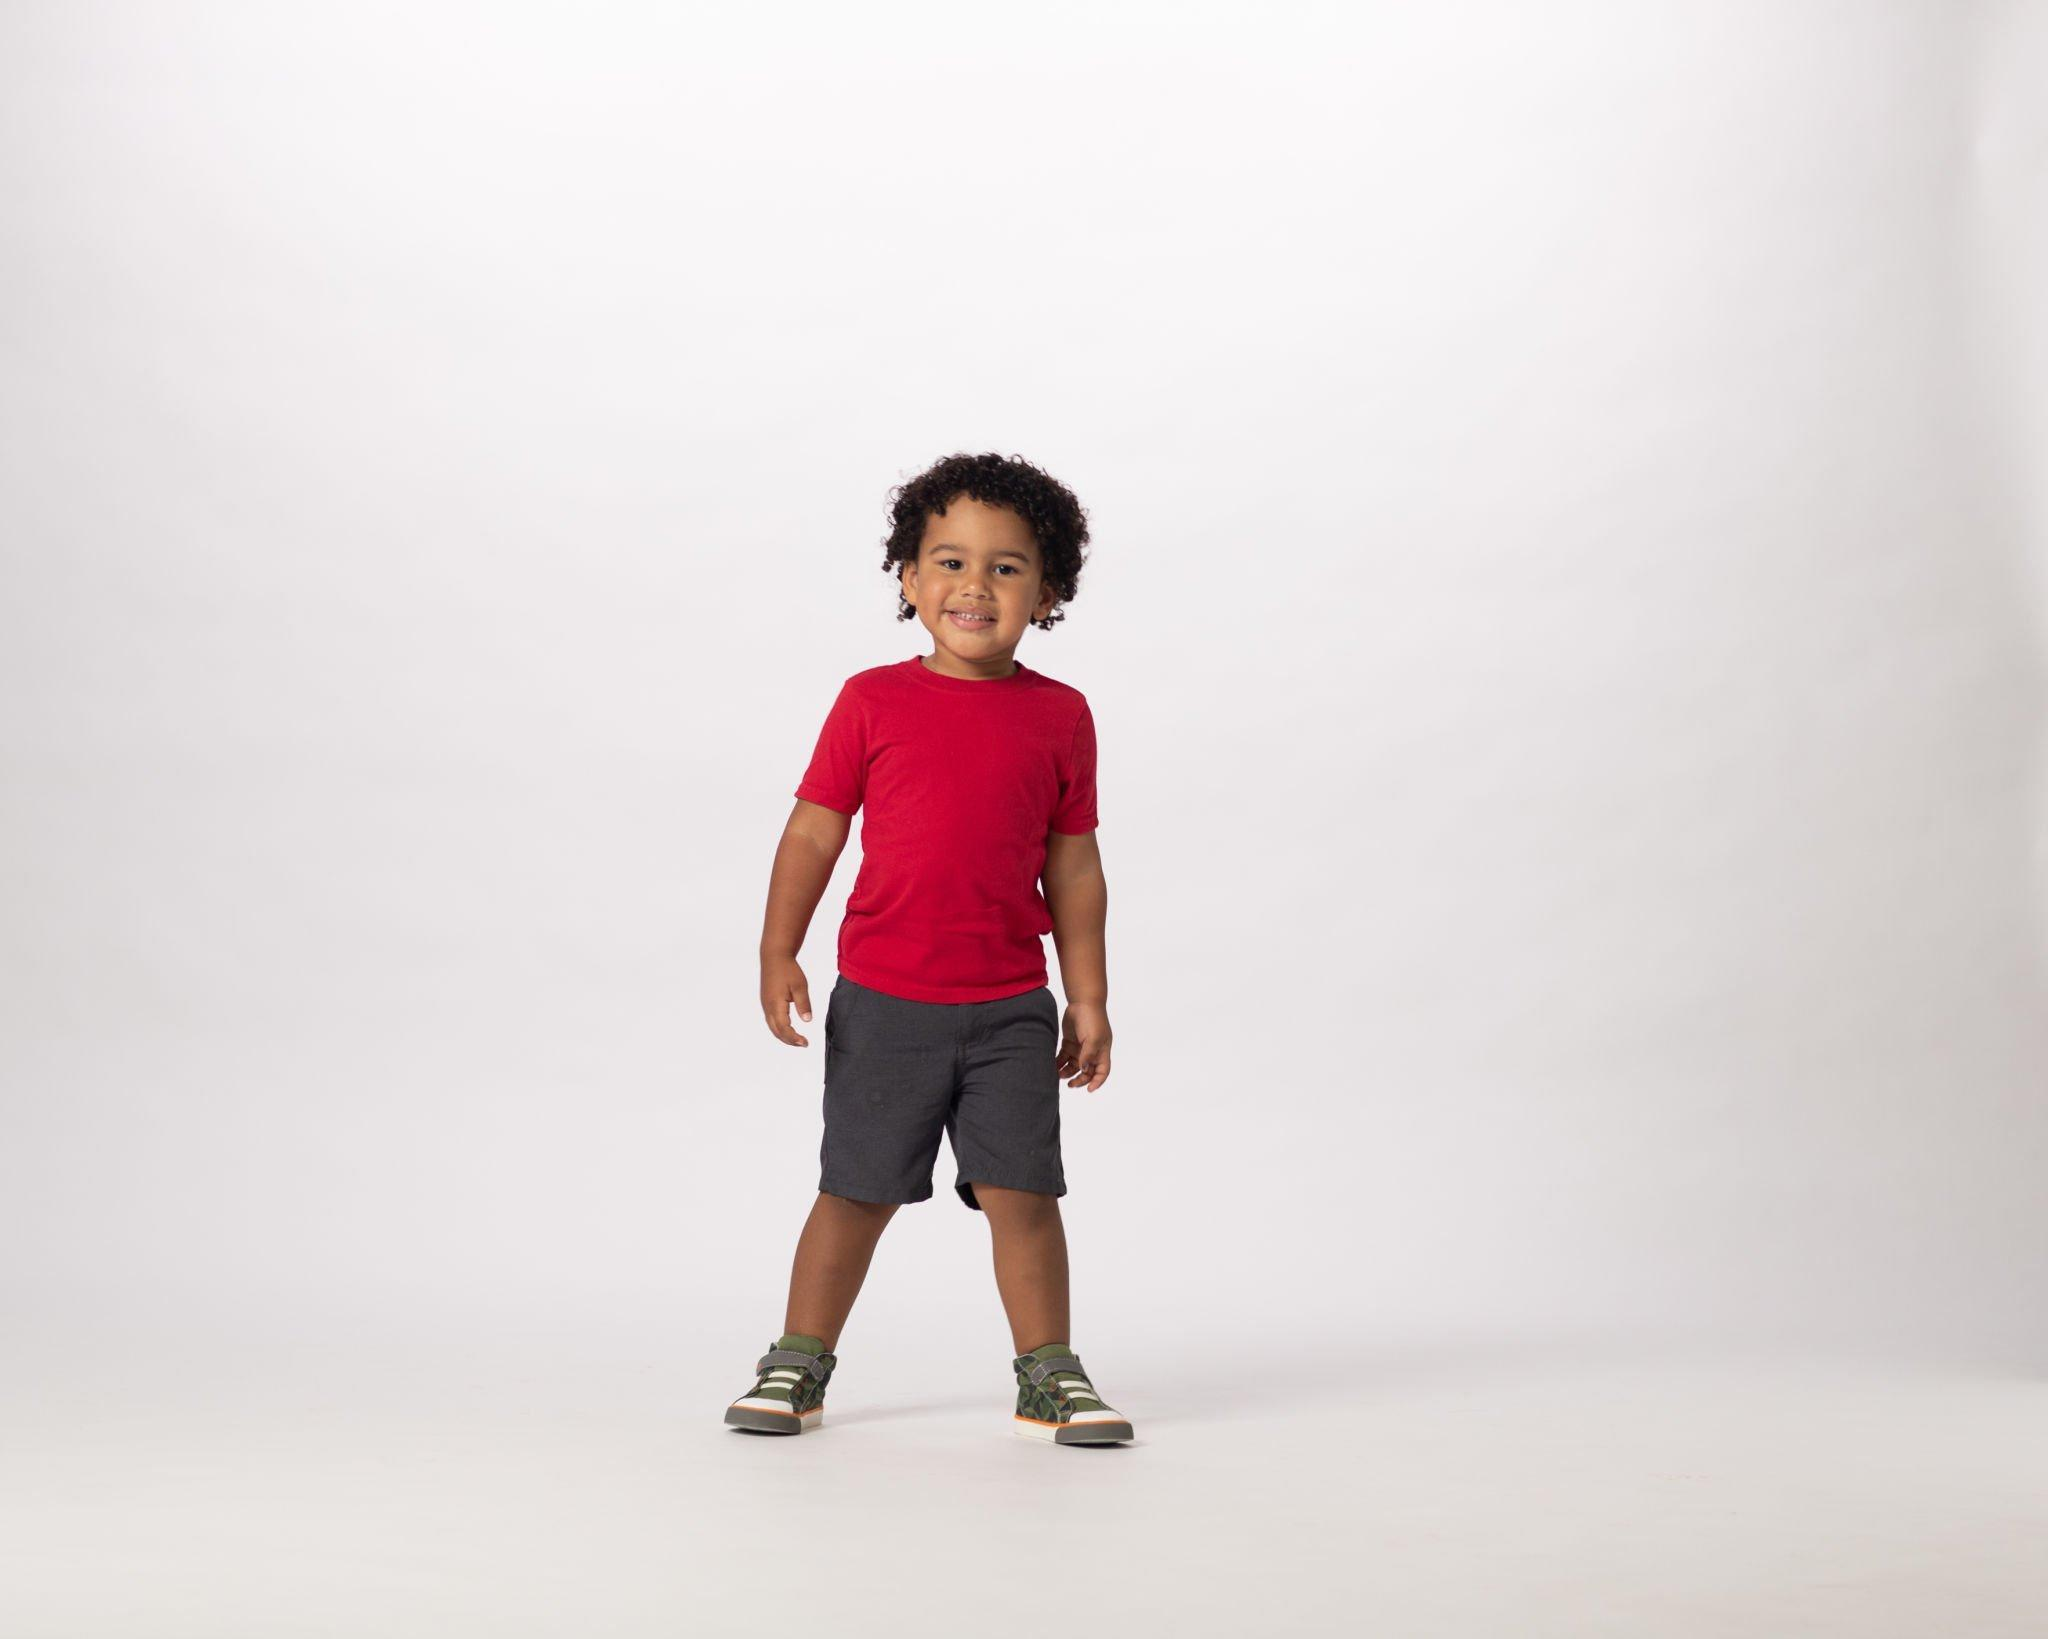Healthy: (876, 437, 1102, 684)
